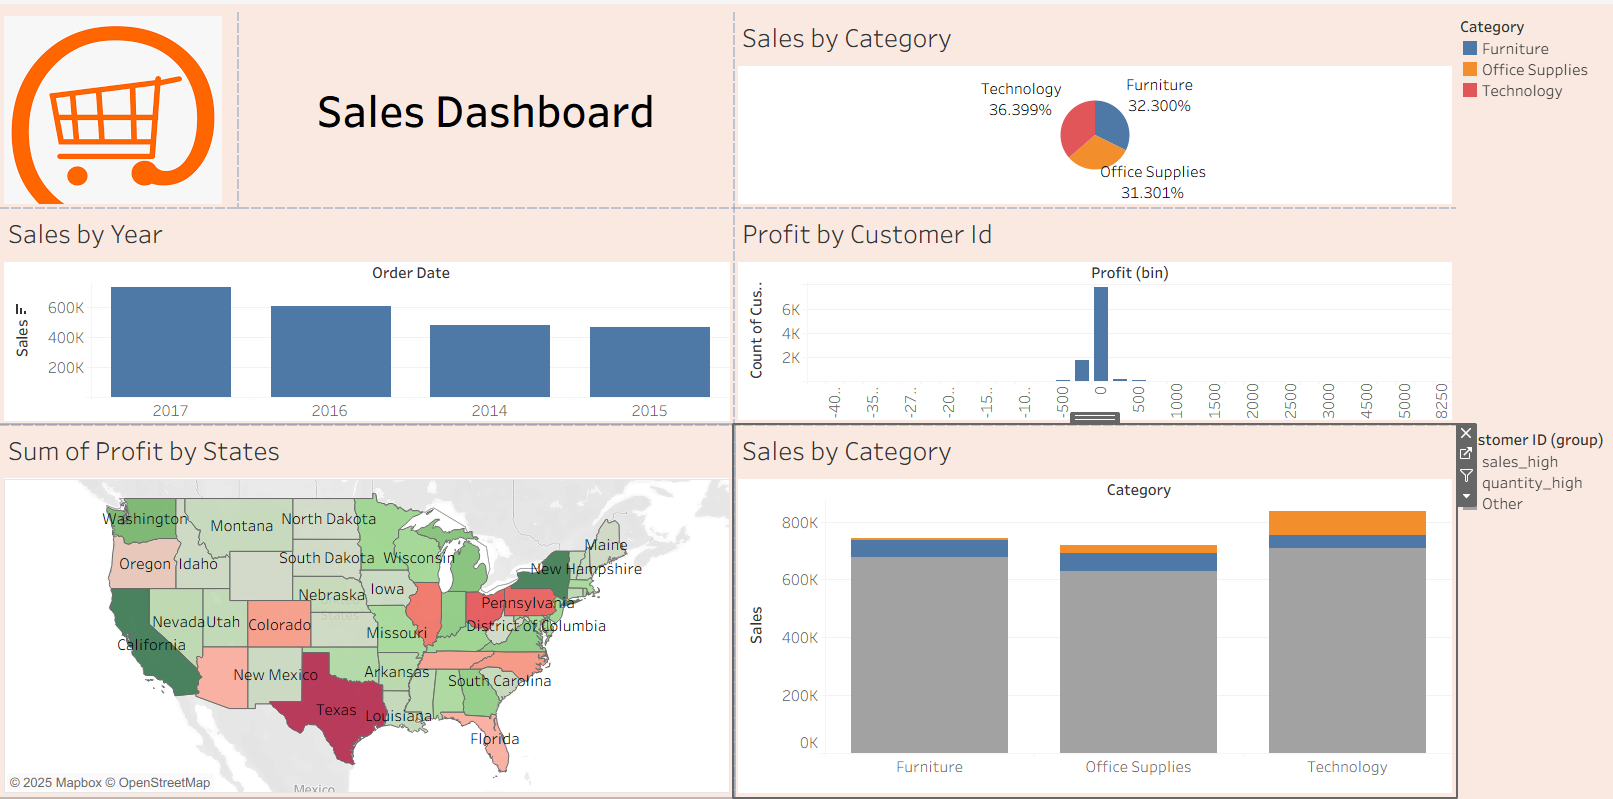

This screenshot's page, from the dashboard's own definition file:
{"tool":"tableau","page":{"name":"Dashboard 1","canvas":[1000,1000],"units":"permille","ordinal":0},"visuals":[{"type":"image","param":"Image/download.png","box":[4.8,10,143.6,244.7]},{"type":"text","box":[148.5,10,299.3,244.7]},{"type":"worksheet","title":"Sheet 2","mark":"Pie","box":[447.8,10,435.7,245]},{"type":"legend","title":"Sheet 2","param":"[federated.1u7bqaw0mhom7u1b6ygzo1sl7o0k].[none:Category:nk]","box":[883.5,10,111.7,402]},{"type":"worksheet","title":"Sheet 1","mark":"Bar","rows":["Sales"],"cols":["Order Date"],"box":[4.8,254.7,443,271.4]},{"type":"worksheet","title":"Sheet 6","mark":"Automatic","rows":["Customer ID"],"cols":["Profit (bin)"],"box":[447.8,255,435.7,271.1]},{"type":"legend","title":"Sheet 5","param":"[federated.1u7bqaw0mhom7u1b6ygzo1sl7o0k].[Customer ID (group)]","box":[883.5,525.6,111.7,221]},{"type":"worksheet","title":"Sheet 3","mark":"Automatic","box":[4.8,526.1,443,463.9]},{"type":"worksheet","title":"Sheet 5","mark":"Automatic","rows":["Sales"],"cols":["Category"],"box":[447.8,526.1,435.7,463.9]}]}

Visuals, with their boxes on the dashboard's canvas, which has no fixed pixel size, in thousandths of its width and height (x1, y1, x2, y2). These are canvas units, not pixel positions in the 1613x799 screenshot, which may show the page scaled, cropped or inside an application window:
image: 5:10:148:255
text: 148:10:448:255
"Sheet 2" worksheet (Pie marks): 448:10:884:255
"Sheet 2" legend: 884:10:995:412
"Sheet 1" worksheet (Bar marks): 5:255:448:526
"Sheet 6" worksheet: 448:255:884:526
"Sheet 5" legend: 884:526:995:747
"Sheet 3" worksheet: 5:526:448:990
"Sheet 5" worksheet: 448:526:884:990
